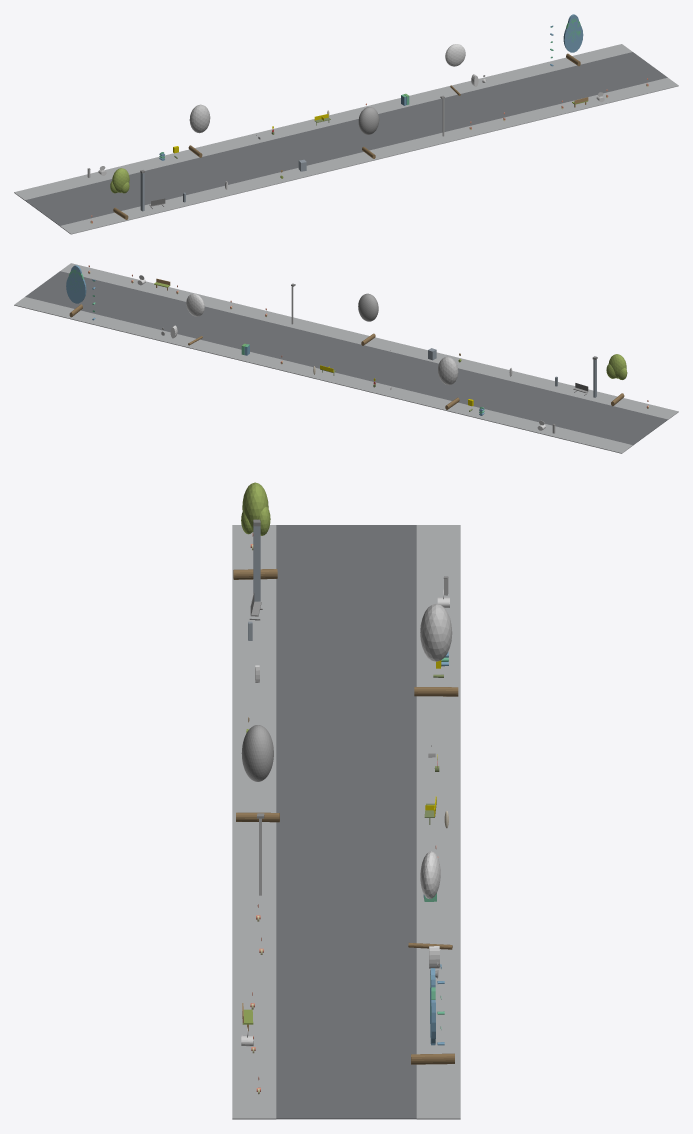
3 views of the same model, one above another, from view 1: azimuth 30°, elevation 25°; view 2: azimuth 150°, elevation 25°; view 3: azimuth 270°, elevation 25° (orthographic). The views are drawn at different scales.
Visible parts, largest first — view 1: road_slab, sidewalk_left, sidewalk_right, inst_0016, inst_0013, inst_0014, inst_0012, inst_0015; view 2: road_slab, sidewalk_right, sidewalk_left, inst_0016, inst_0013, inst_0014, inst_0012, inst_0015; view 3: road_slab, sidewalk_left, sidewalk_right, inst_0013, inst_0014, inst_0012, inst_0015, inst_0016.
Boxes of the visible parts, x1,y1,x2,y2 form: road_slab: (25,52,667,225); sidewalk_left: (60,77,678,234); sidewalk_right: (14,44,632,200); inst_0016: (563,14,583,66); inst_0013: (188,104,210,157); inst_0014: (358,107,379,158); inst_0012: (110,168,129,219); inst_0015: (445,44,465,95); road_slab: (25,271,667,445); sidewalk_right: (14,297,632,453); sidewalk_left: (60,263,678,419); inst_0016: (66,265,86,317); inst_0013: (438,356,459,409); inst_0014: (358,293,378,345); inst_0012: (606,354,627,406); inst_0015: (186,293,204,345); road_slab: (276,525,416,1119); sidewalk_left: (232,525,276,1119); sidewalk_right: (416,525,460,1119); inst_0013: (414,603,458,696); inst_0014: (236,725,279,822); inst_0012: (233,482,277,579); inst_0015: (408,851,452,949); inst_0016: (411,968,454,1064).
Bounding box in the file's own units: 80 × 6.08 × 13.
